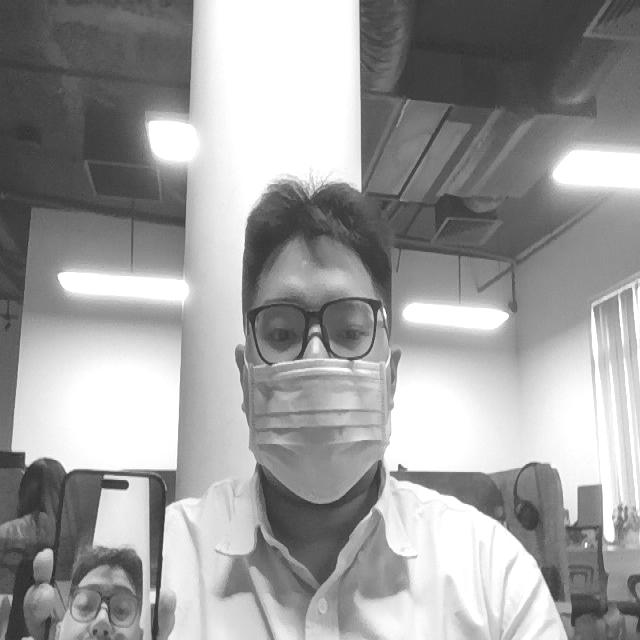fake: (39, 448, 169, 640), (243, 354, 396, 506), (58, 544, 147, 640)
real: (233, 151, 407, 514), (247, 290, 389, 364)
